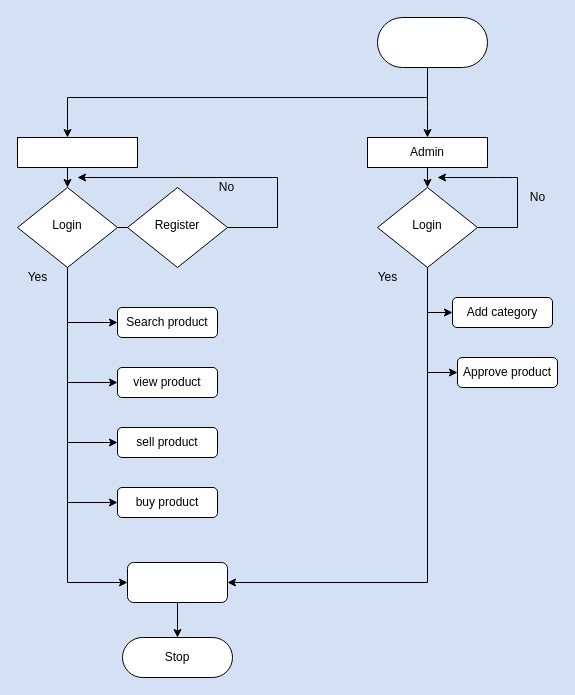
Image size: 575x695. Some labels were removed from this diagram. The centre of each missing label's shape, as x and y in pixels:
logout: point (177, 582)
Start: point (432, 42)
User: point (77, 152)
